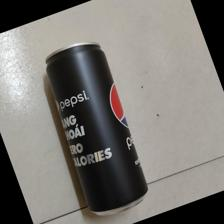Pepsi: (43, 42, 149, 217)
